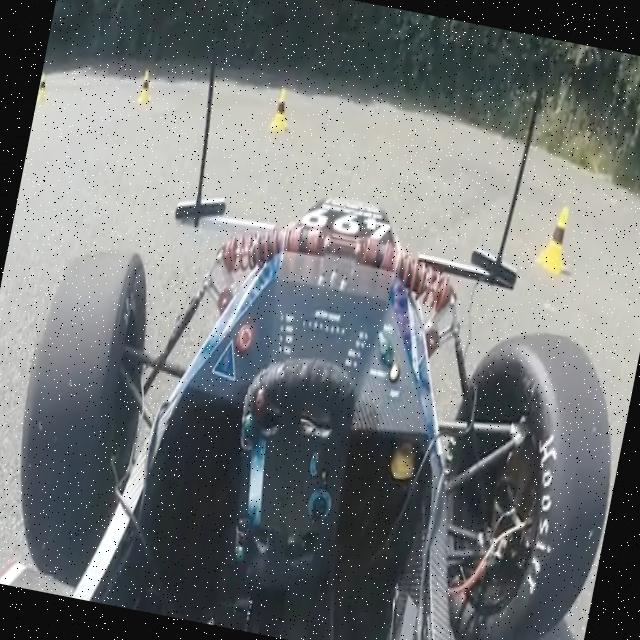yellow_cone: (532, 193, 582, 280), (258, 82, 300, 138), (132, 62, 159, 106), (36, 65, 57, 106)
